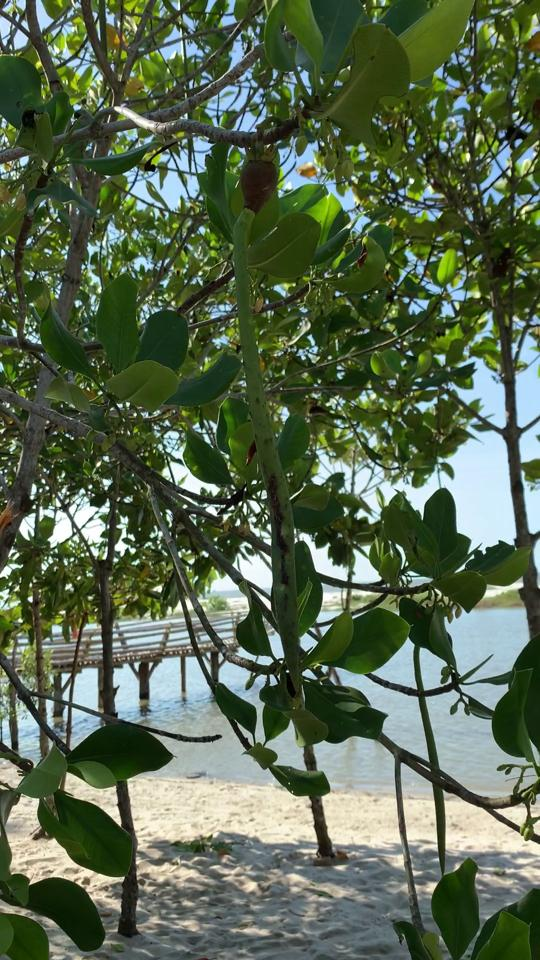setengah matang: (219, 148, 317, 716)
